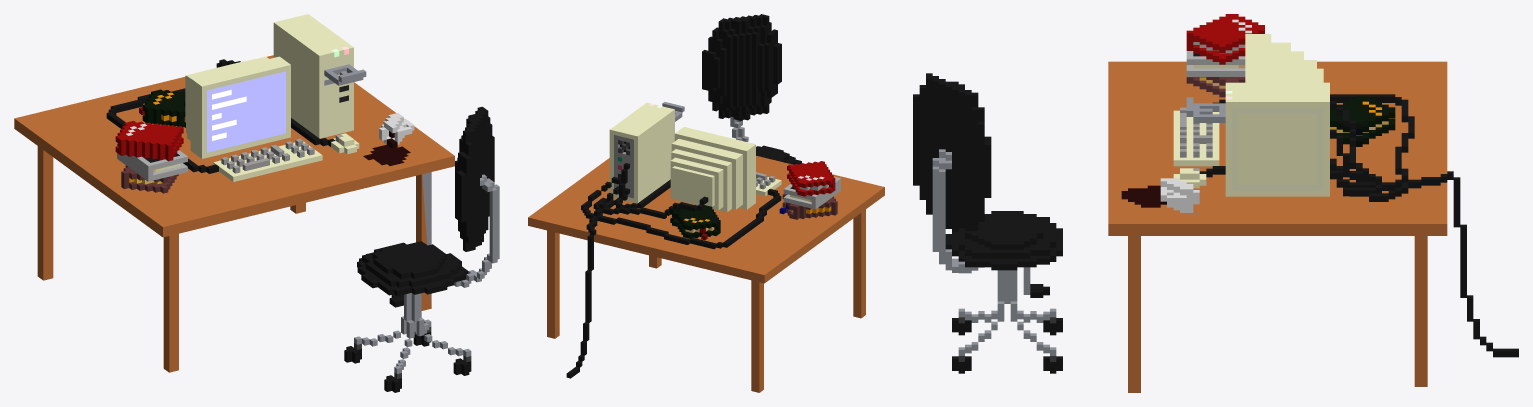
File: computer.glb
3 views of the same model, side by side, from view 1: azimuth 30°, elevation 25°; view 2: azimuth 150°, elevation 25°; view 3: azimuth 270°, elevation 25° (orthographic). The views are drawn at different scales.
Visible parts, largest first — view 1: Computer_0; view 2: Computer_0; view 3: Computer_0.
Boxes of the visible parts, x1,y1,x2,y2 form: Computer_0: [14, 14, 499, 392]; Computer_0: [528, 14, 884, 392]; Computer_0: [913, 14, 1518, 392].
Bounding box in the file's own units: 5.9 × 4.9 × 9.3.
6 materials, 1 textured.
